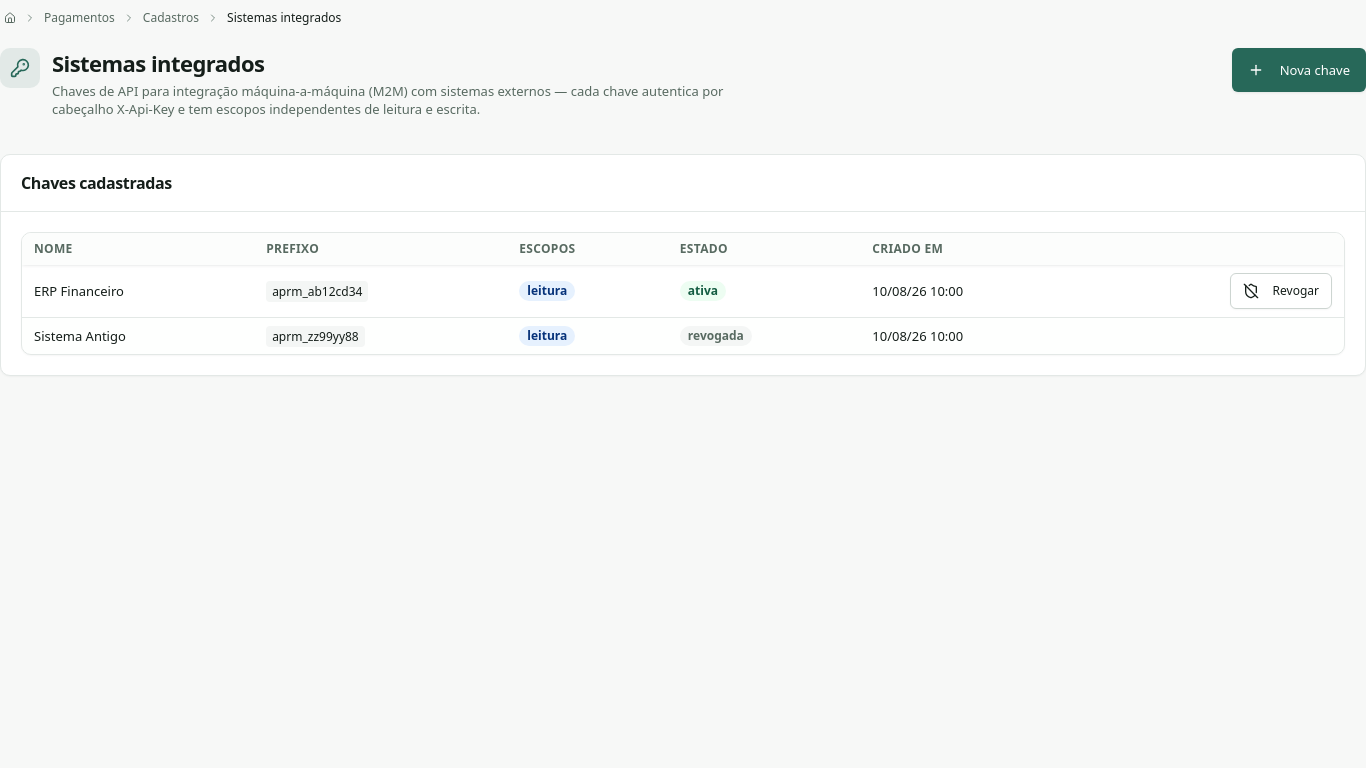
Sistemas integrados — gestão de chaves M2M › mostra a chave completa UMA vez, com aviso de que não volta a aparecer
Expected: the text "ERP Financeiro" is shown, [22,265,254,318]
Click the button "Nova chave" at [1299, 70], box [1232,48,1365,92]
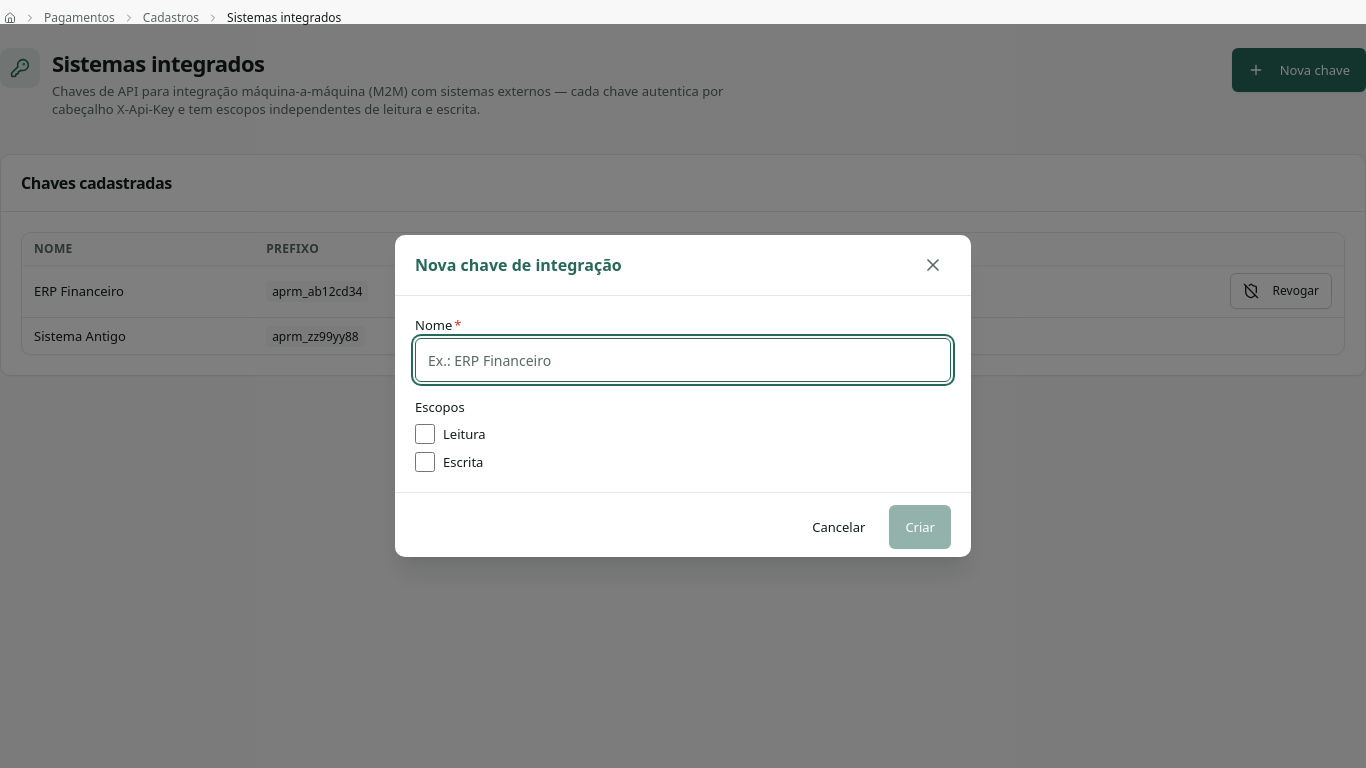
Type "Novo Sistema" into the field labelled "Nome*" at [683, 360], box [415,338,951,382]
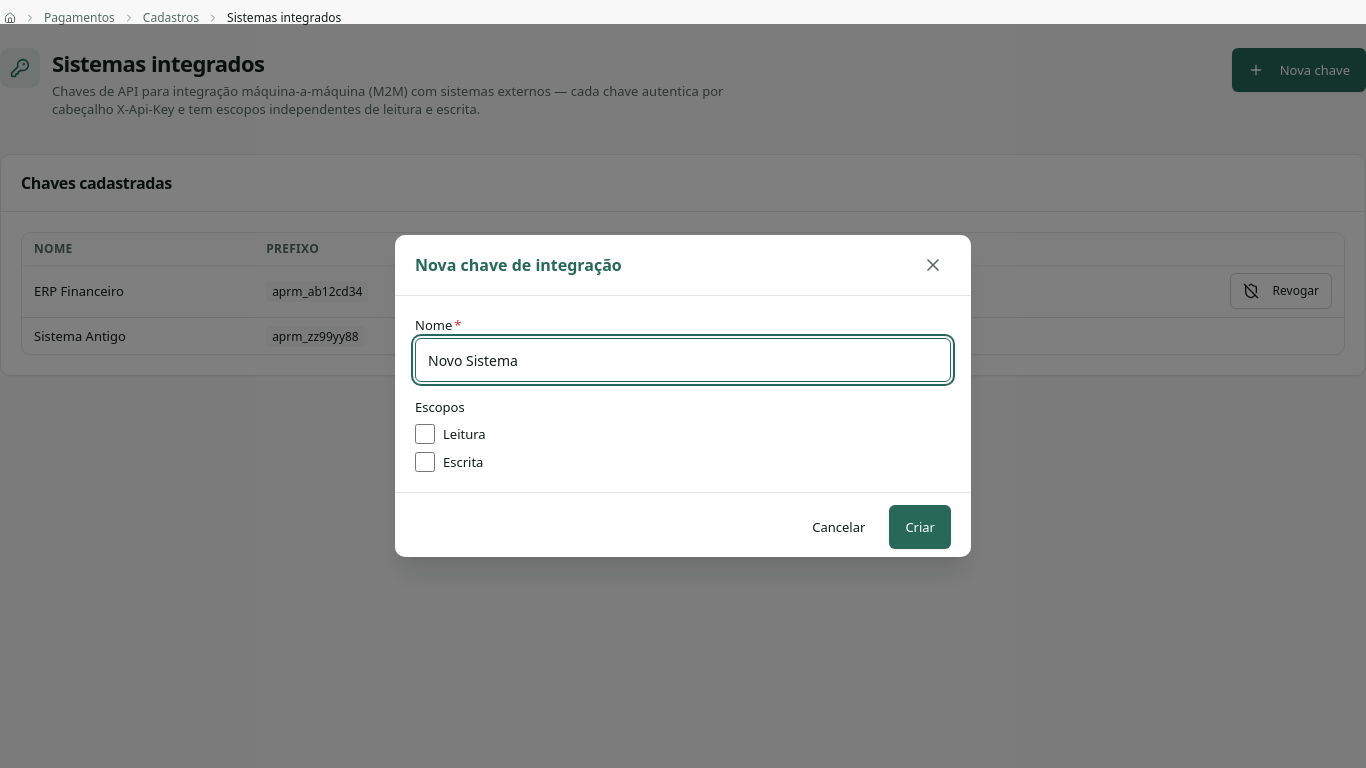
Click the button "Criar" at [920, 527], box [889,505,951,549]
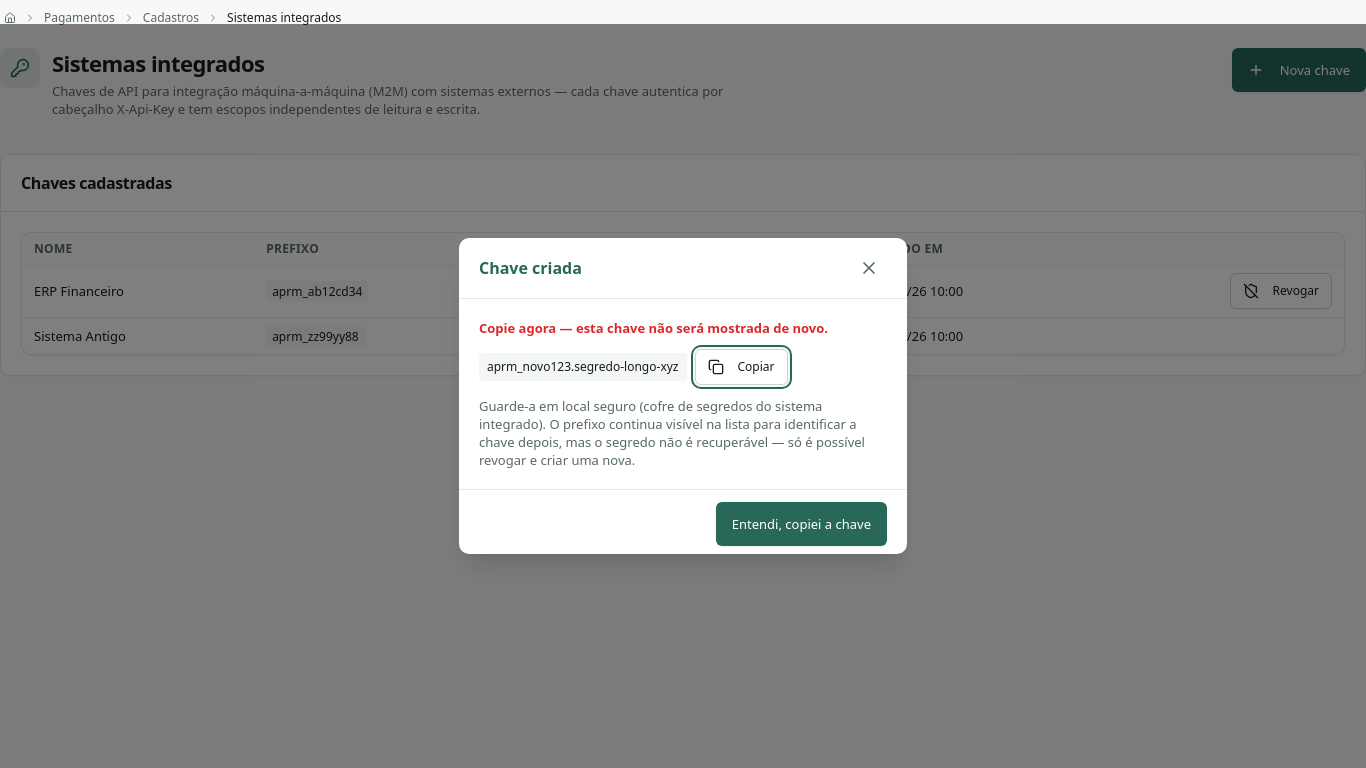
Now the text "aprm_novo123.segredo-longo-xyz" is shown, box [479,353,686,381]
Now the text "Copie agora — esta chave não será mostrada de novo." is shown, box [479,319,887,337]
Click the button "Entendi, copiei a chave" at [801, 524], box [716,502,887,546]
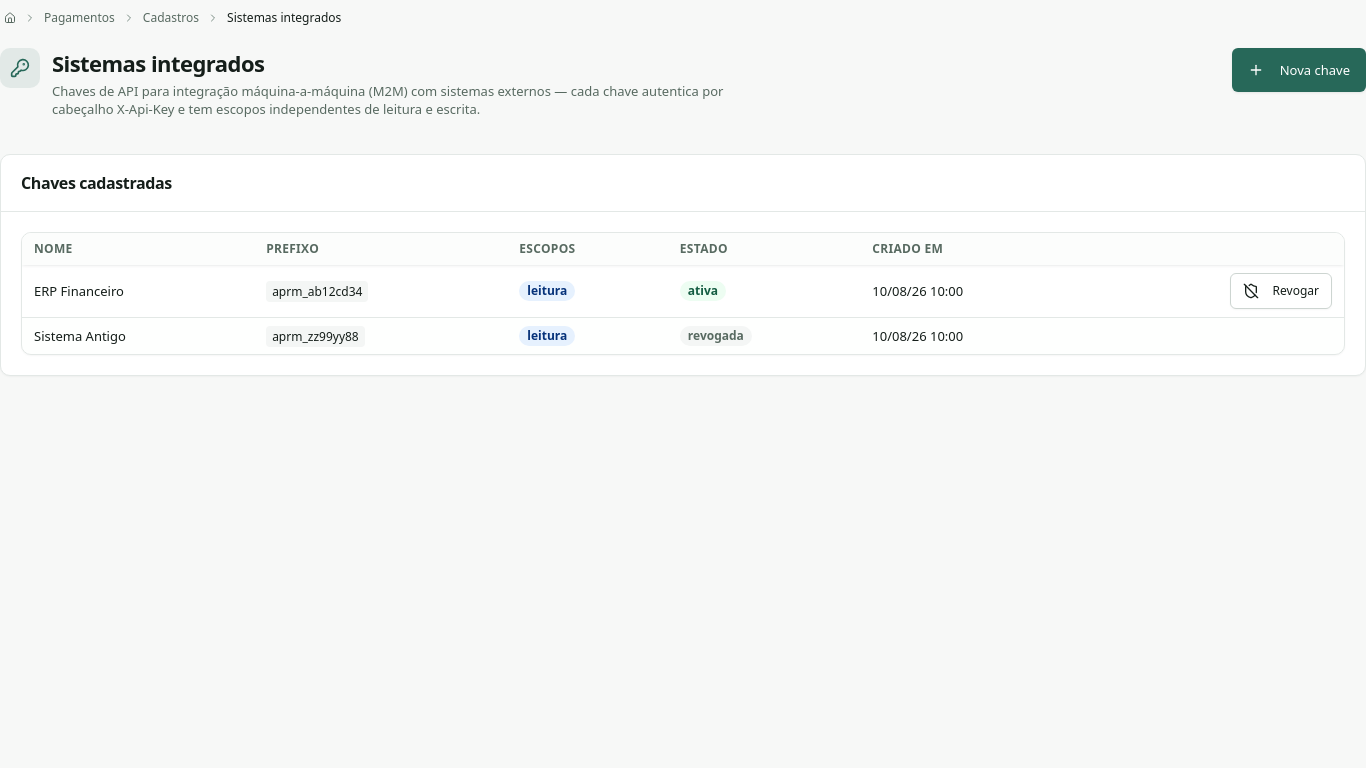
Now the text "aprm_novo123.segredo-longo-xyz" is gone
